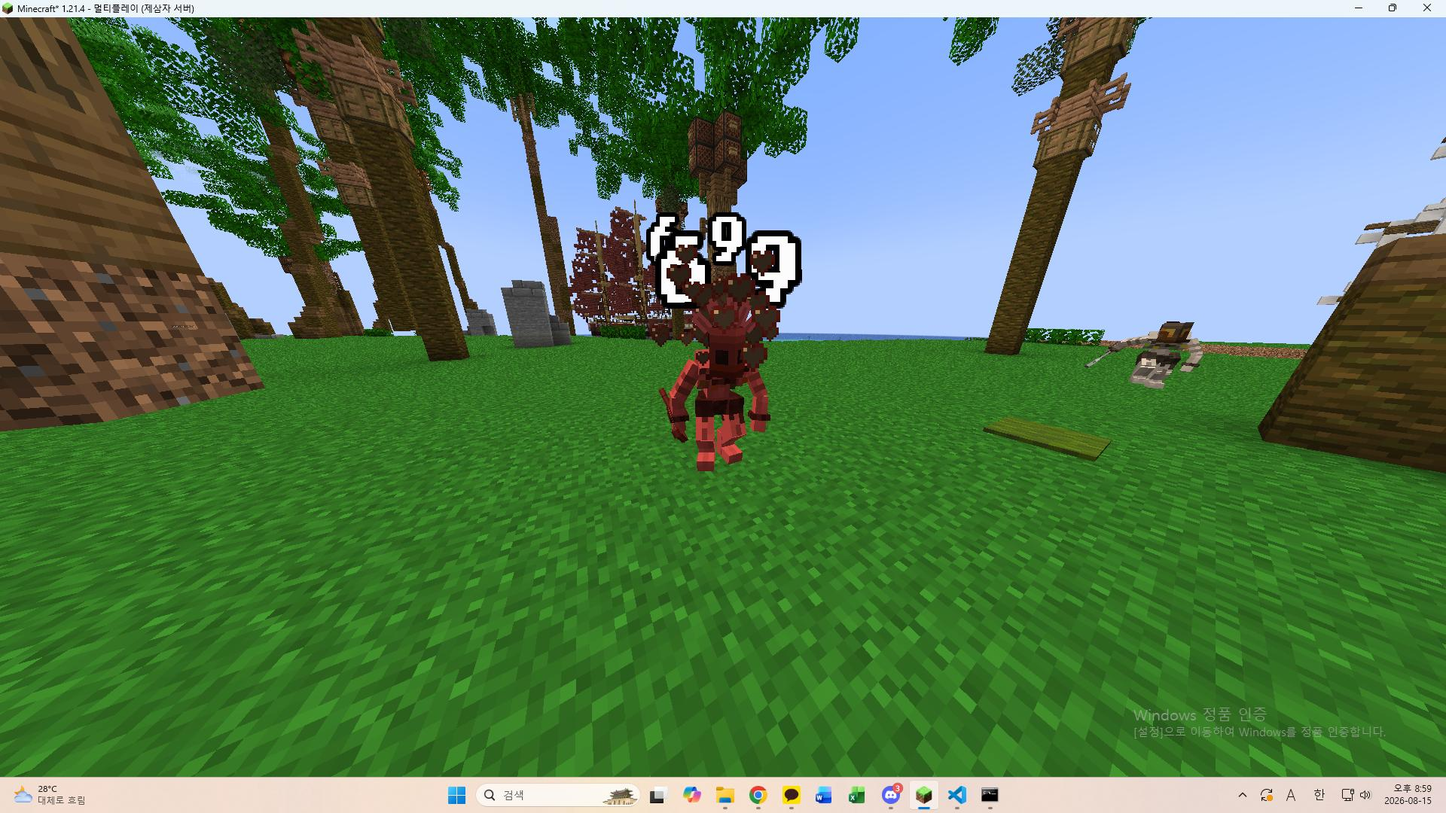bow_indian: (633, 303, 820, 499)
